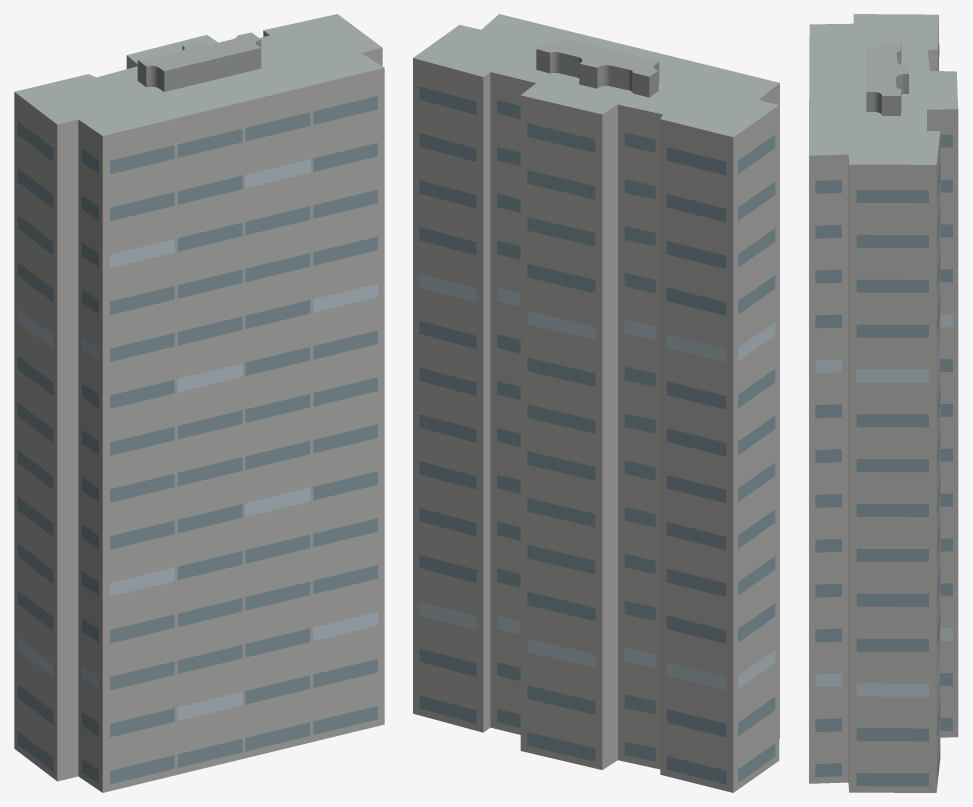
File: fallback-gangdong-lotte-castle-first-118.glb
The picture shows the model from 3 angles, left to right: view 1: azimuth 30°, elevation 25°; view 2: azimuth 150°, elevation 25°; view 3: azimuth 270°, elevation 25°; orthographic projection. The views are drawn at different scales.
Visible parts, largest first — view 1: fallback-gangdong-lotte-castle-first-118; view 2: fallback-gangdong-lotte-castle-first-118; view 3: fallback-gangdong-lotte-castle-first-118.
Boxes of the visible parts, left/top/right/bottom form: fallback-gangdong-lotte-castle-first-118: left=14, top=14, right=384, bottom=792; fallback-gangdong-lotte-castle-first-118: left=413, top=14, right=779, bottom=792; fallback-gangdong-lotte-castle-first-118: left=809, top=14, right=958, bottom=792.
Size of the model in its own units: 39.03 by 78 by 16.37.
